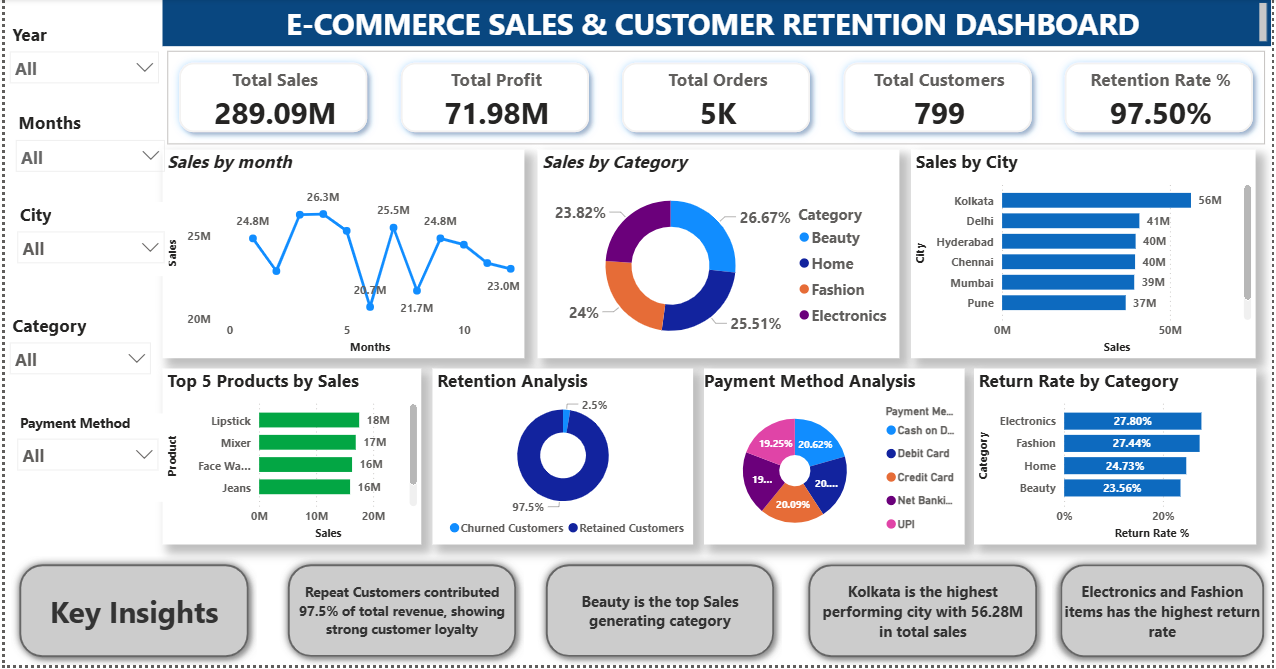

The page's visual inventory and layout, read from the dashboard file:
{"tool":"powerbi","page":{"name":"Sales Trends Analysis","canvas":[1368,720],"ordinal":0},"visuals":[{"type":"cardVisual","fields":{"Data":["project cleaned_data.Total Sales","project cleaned_data.Total Profit","project cleaned_data.Total Orders","project cleaned_data.Total Customers","project cleaned_data.Retention Rate %"]},"box":[170,52.2,1196.9,111.1],"z":0},{"type":"textbox","box":[170,0,1196.9,52.2],"z":1000},{"type":"lineChart","title":"Sales by month","fields":{"Category":["project cleaned_data.month"],"Y":["Sum(project cleaned_data.Sales)"]},"box":[170,163.3,390.5,225.6],"z":3000},{"type":"donutChart","title":"Sales by Category","fields":{"Category":["project cleaned_data.Category"],"Y":["Sum(project cleaned_data.Sales)"]},"box":[574,163.3,390.5,225.6],"z":4000},{"type":"clusteredBarChart","title":"Sales by City","fields":{"Category":["project cleaned_data.City"],"Y":["Sum(project cleaned_data.Sales)"]},"box":[978,163.3,372,225.6],"z":5000},{"type":"barChart","title":"Top 5 Products by Sales","fields":{"Category":["project cleaned_data.Product"],"Y":["Sum(project cleaned_data.Sales)"]},"box":[170,400.6,279.4,190.2],"z":6000},{"type":"donutChart","title":"Retention Analysis","fields":{"Y":["project cleaned_data.Churned Customers","project cleaned_data.Retained Customers"]},"box":[461.2,400.6,281.1,190.2],"z":7000},{"type":"donutChart","title":"Payment Method Analysis","fields":{"Category":["project cleaned_data.Payment_Method"],"Y":["project cleaned_data.Total Orders"]},"box":[754.1,400.6,281.1,190.2],"z":8000},{"type":"clusteredBarChart","title":"Return Rate by Category","fields":{"Category":["project cleaned_data.Category"],"Y":["project cleaned_data.Return Rate %"]},"box":[1045.4,400.6,304.7,190.2],"z":9000},{"type":"slicer","fields":{"Values":["project cleaned_data.year"]},"box":[0,26,171,82.3],"z":10000},{"type":"slicer","fields":{"Values":["project cleaned_data.month"]},"box":[6.5,121.2,171,82.3],"z":10001},{"type":"slicer","fields":{"Values":["project cleaned_data.City"]},"box":[8.7,220.8,168.8,80.1],"z":10002},{"type":"slicer","fields":{"Values":["project cleaned_data.Category"]},"box":[0,339.8,162.3,95.2],"z":10003},{"type":"slicer","fields":{"Values":["project cleaned_data.Payment_Method"]},"box":[8.7,448.1,162.3,95.2],"z":10004},{"type":"shape","box":[6.5,602.4,265.6,118.2],"z":10005},{"type":"shape","box":[296.3,602.6,264.3,117.8],"z":10006},{"type":"shape","box":[574,602.6,264.3,117.8],"z":10007},{"type":"shape","box":[858.2,602.4,265,118.2],"z":10008},{"type":"shape","box":[1130.2,602.4,238,118.2],"z":10009}]}

Visuals, with their boxes in screenshot pixels (x1, y1, x2, y2), scaled from the page's 1368x720 canvas onto the 1276x669 screenshot:
cardVisual - project cleaned_data.Total Sales x project cleaned_data.Total Profit: 159/49/1275/152
textbox: 159/0/1275/49
"Sales by month" lineChart: 159/152/523/361
"Sales by Category" donutChart: 535/152/900/361
"Sales by City" clusteredBarChart: 912/152/1259/361
"Top 5 Products by Sales" barChart: 159/372/419/549
"Retention Analysis" donutChart: 430/372/692/549
"Payment Method Analysis" donutChart: 703/372/966/549
"Return Rate by Category" clusteredBarChart: 975/372/1259/549
slicer - project cleaned_data.year: 0/24/160/101
slicer - project cleaned_data.month: 6/113/166/189
slicer - project cleaned_data.City: 8/205/166/280
slicer - project cleaned_data.Category: 0/316/151/404
slicer - project cleaned_data.Payment_Method: 8/416/160/505
shape: 6/560/254/668
shape: 276/560/523/668
shape: 535/560/782/668
shape: 800/560/1048/668
shape: 1054/560/1275/668
